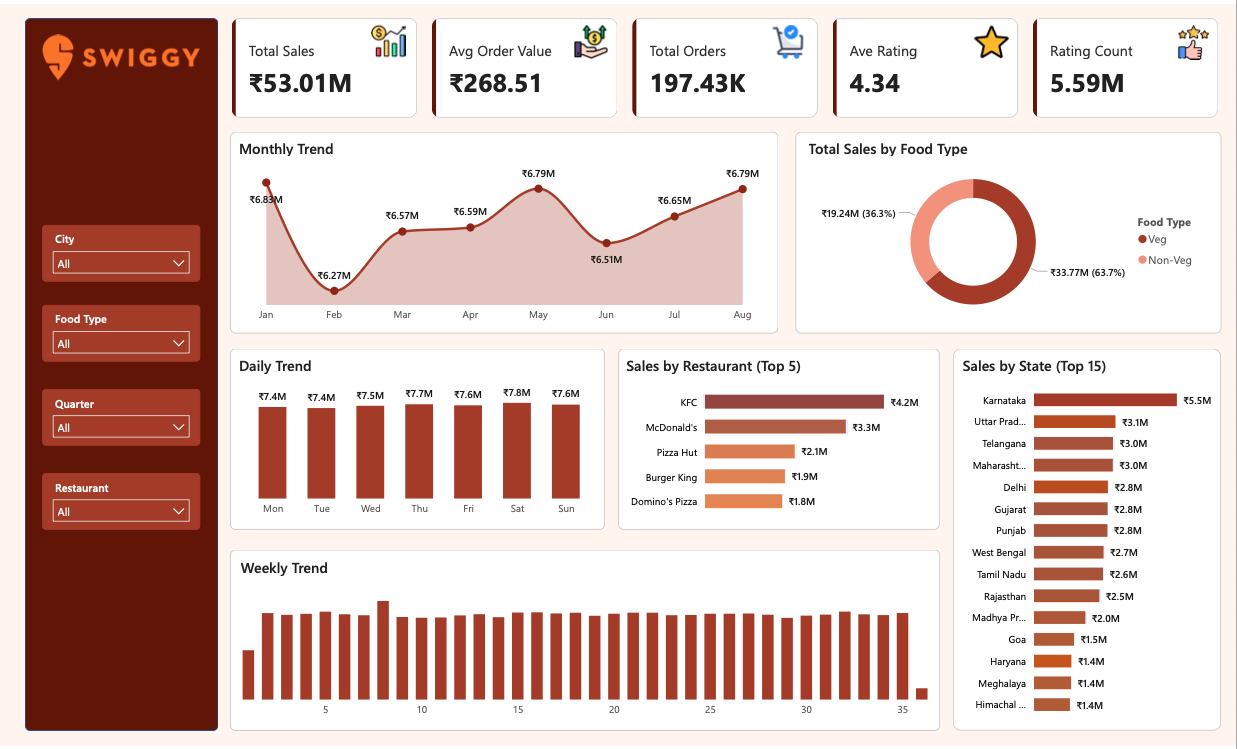

Layout of this report page (visuals, bound fields, positions):
{"tool":"powerbi","page":{"name":"Page 1","canvas":[1500,900],"ordinal":0},"visuals":[{"type":"shape","box":[29.6,17.1,235,865.1],"z":0},{"type":"cardVisual","fields":{"Data":["fact_orders.Total Sales","fact_orders.Avg Order Value","fact_orders.Total Orders","Avg(fact_orders.rating)","Sum(fact_orders.rating_count)"]},"box":[264.1,0,1235.5,155.3],"z":1},{"type":"image","box":[437.5,23.8,66.9,41.9],"z":2},{"type":"image","box":[683.5,24.9,66.9,41.9],"z":3},{"type":"image","box":[922.7,24.9,66.9,41.9],"z":4},{"type":"image","box":[1169.8,24.9,66.9,41.9],"z":5},{"type":"image","box":[1414.6,26.1,66.9,41.9],"z":6},{"type":"image","box":[51,17,191.6,95.2],"z":7},{"type":"shape","box":[278.8,155.3,665.4,244.8],"z":8},{"type":"areaChart","title":"Monthly Trend","fields":{"Category":["dim_date.Month"],"Y":["fact_orders.Total Sales"]},"box":[284.5,162.1,654,232.4],"z":9},{"type":"shape","box":[964.6,155.3,516.9,244.8],"z":10},{"type":"donutChart","title":"Total Sales by Food Type","fields":{"Category":["dim_dish.Food Type"],"Y":["fact_orders.Total Sales"]},"box":[975.9,162.1,493.1,230.1],"z":11},{"type":"shape","box":[278.8,418.3,455,220],"z":12},{"type":"columnChart","title":"Daily Trend","fields":{"Category":["dim_date.Day"],"Y":["fact_orders.Total Sales"]},"box":[284.5,426.2,448.9,204],"z":13},{"type":"shape","box":[750.4,418.3,390,219.9],"z":14},{"type":"barChart","title":"Sales by Restaurant (Top 5)","fields":{"Category":["dim_restaurant.restaurant_name"],"Y":["fact_orders.Total Sales"]},"box":[754.9,426.2,377.5,204],"z":15},{"type":"shape","box":[1156.2,418.3,325.3,463.6],"z":16},{"type":"barChart","title":"Sales by State (Top 15)","fields":{"Category":["dim_location.state"],"Y":["fact_orders.Total Sales"]},"box":[1163,426.2,312.9,447.7],"z":17},{"type":"shape","box":[278.8,662,861.5,219.9],"z":18},{"type":"columnChart","title":"Weekly Trend","fields":{"Category":["dim_date.Week Number"],"Y":["fact_orders.Total Sales"]},"box":[286.8,671,845.6,202.9],"z":19},{"type":"slicer","fields":{"Values":["dim_location.city"]},"box":[51,267.5,191.6,69.1],"z":20},{"type":"slicer","fields":{"Values":["dim_dish.Food Type"]},"box":[51,365,191.6,69.1],"z":21},{"type":"slicer","fields":{"Values":["dim_date.Quarter"]},"box":[51,467,191.6,69.1],"z":22},{"type":"slicer","fields":{"Values":["dim_restaurant.restaurant_name"]},"box":[51,569,191.6,69.1],"z":23}]}

Visuals, with their boxes in screenshot pixels (x1, y1, x2, y2), scaled from the page's 1500x900 canvas onto the 1237x749 screenshot:
shape: [x1=24, y1=14, x2=218, y2=734]
cardVisual - fact_orders.Total Sales x fact_orders.Avg Order Value: [x1=218, y1=0, x2=1236, y2=129]
image: [x1=361, y1=20, x2=416, y2=55]
image: [x1=564, y1=21, x2=619, y2=56]
image: [x1=761, y1=21, x2=816, y2=56]
image: [x1=965, y1=21, x2=1020, y2=56]
image: [x1=1167, y1=22, x2=1222, y2=57]
image: [x1=42, y1=14, x2=200, y2=93]
shape: [x1=230, y1=129, x2=779, y2=333]
"Monthly Trend" areaChart: [x1=235, y1=135, x2=774, y2=328]
shape: [x1=795, y1=129, x2=1222, y2=333]
"Total Sales by Food Type" donutChart: [x1=805, y1=135, x2=1211, y2=326]
shape: [x1=230, y1=348, x2=605, y2=531]
"Daily Trend" columnChart: [x1=235, y1=355, x2=605, y2=524]
shape: [x1=619, y1=348, x2=940, y2=531]
"Sales by Restaurant (Top 5)" barChart: [x1=623, y1=355, x2=934, y2=524]
shape: [x1=953, y1=348, x2=1222, y2=734]
"Sales by State (Top 15)" barChart: [x1=959, y1=355, x2=1217, y2=727]
shape: [x1=230, y1=551, x2=940, y2=734]
"Weekly Trend" columnChart: [x1=237, y1=558, x2=934, y2=727]
slicer - dim_location.city: [x1=42, y1=223, x2=200, y2=280]
slicer - dim_dish.Food Type: [x1=42, y1=304, x2=200, y2=361]
slicer - dim_date.Quarter: [x1=42, y1=389, x2=200, y2=446]
slicer - dim_restaurant.restaurant_name: [x1=42, y1=474, x2=200, y2=531]
